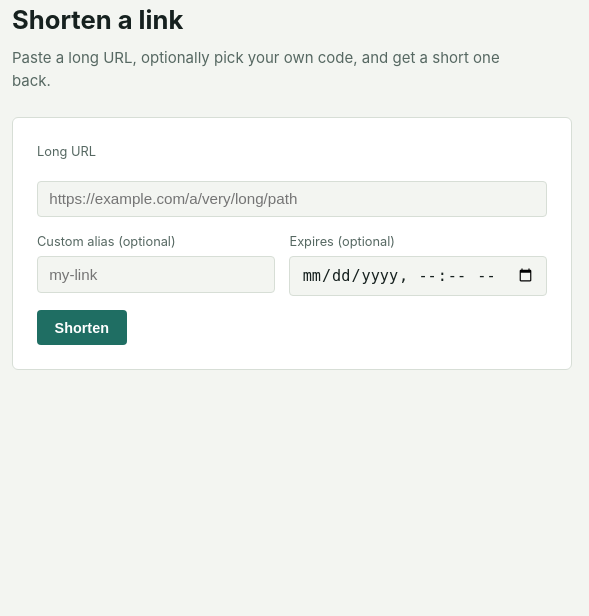
Test: CreateLinkPage › shows the short link after a successful submission
Type "https://example.com/a/long/path" into the field labelled "Long URL" at [292, 199], box [37,181,547,217]
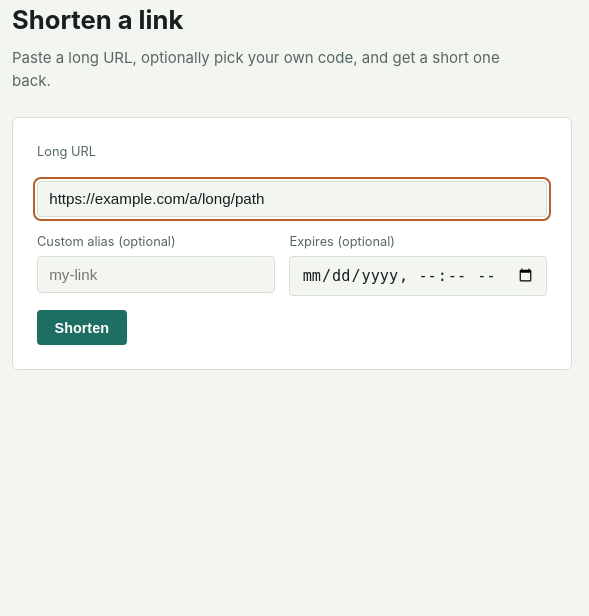
Click the button "Shorten" at [82, 328], box [37,310,127,345]
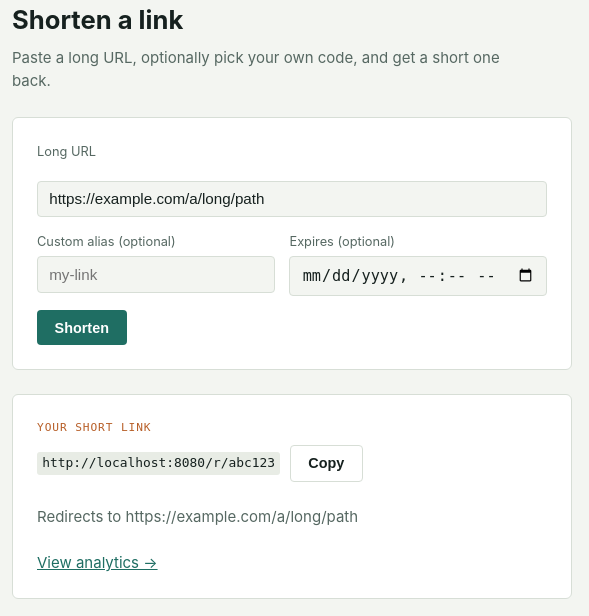
Expected: the text "http://localhost:8080/r/abc123" is shown, [37,452,280,475]
